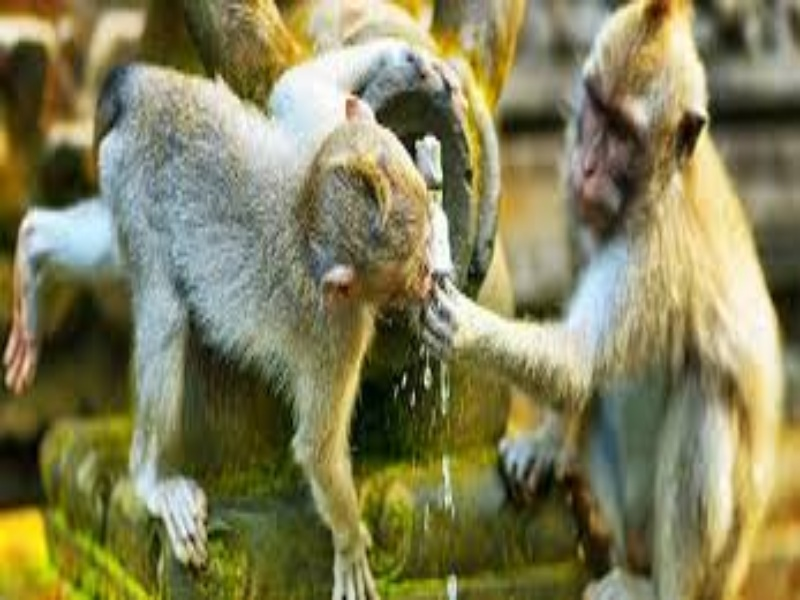monkey: (76, 17, 770, 573)
